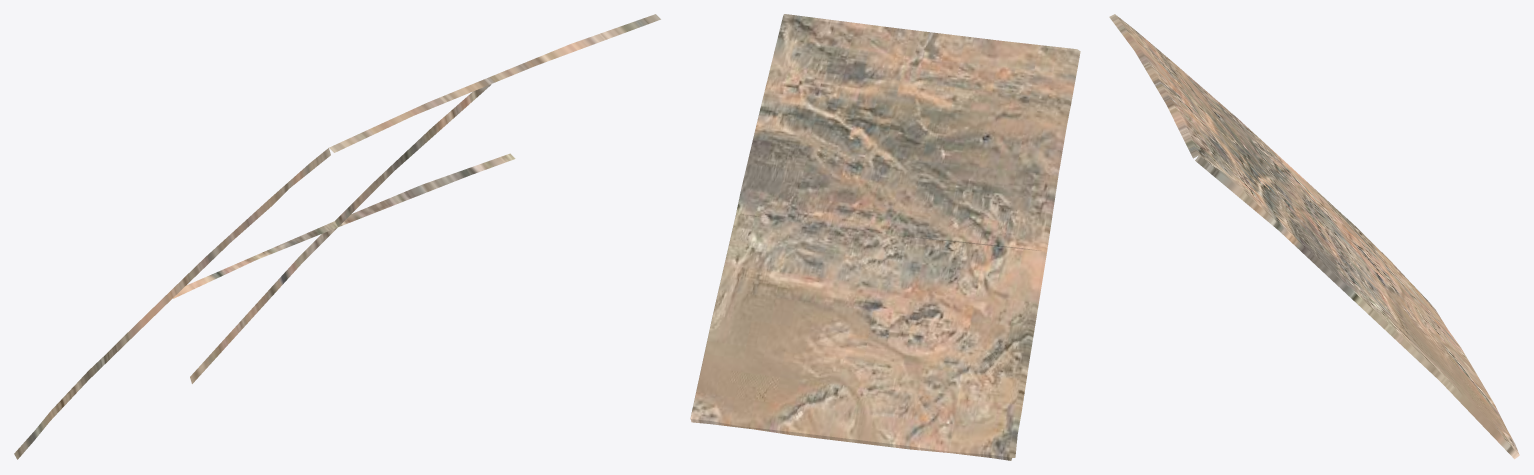
3 views of the same model, side by side, from view 1: azimuth 30°, elevation 25°; view 2: azimuth 150°, elevation 25°; view 3: azimuth 270°, elevation 25° (orthographic). The views are drawn at different scales.
Bounding box in the file's own units: 558940 × 473266 × 528918.
1 material, 1 textured.
